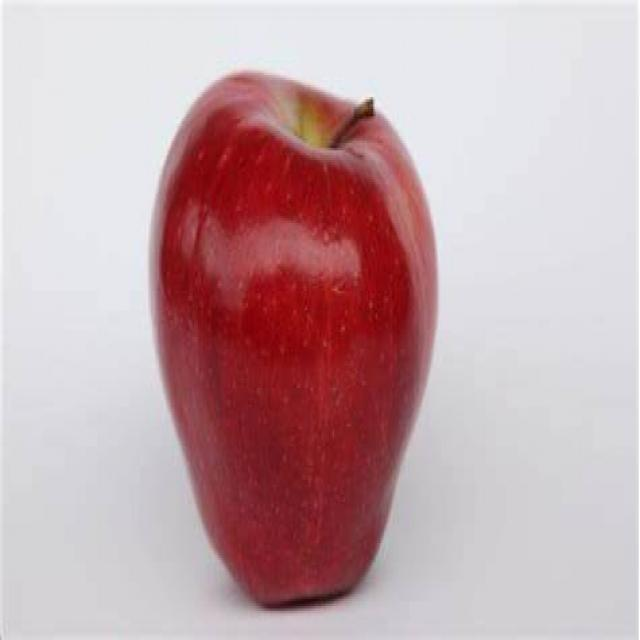Apple: (151, 55, 447, 620)
